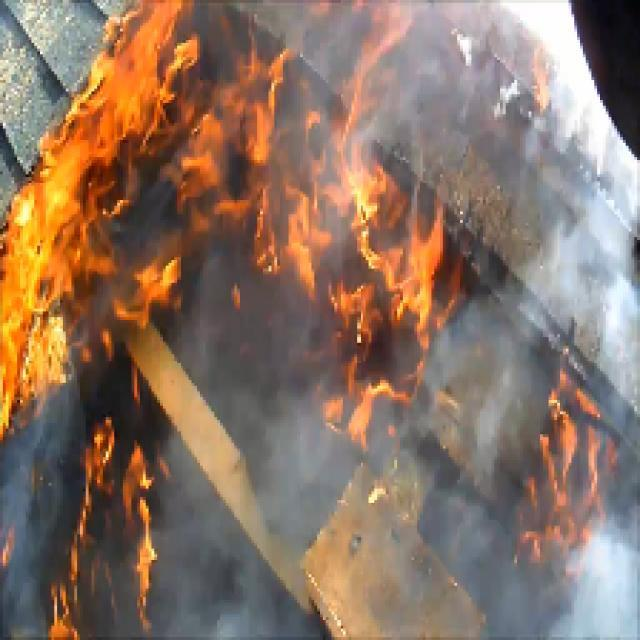Fire: (278, 163, 410, 318), (72, 426, 150, 616), (2, 204, 62, 380), (194, 108, 272, 205), (102, 41, 172, 138), (41, 128, 96, 193)
Smoke: (182, 379, 304, 622)
